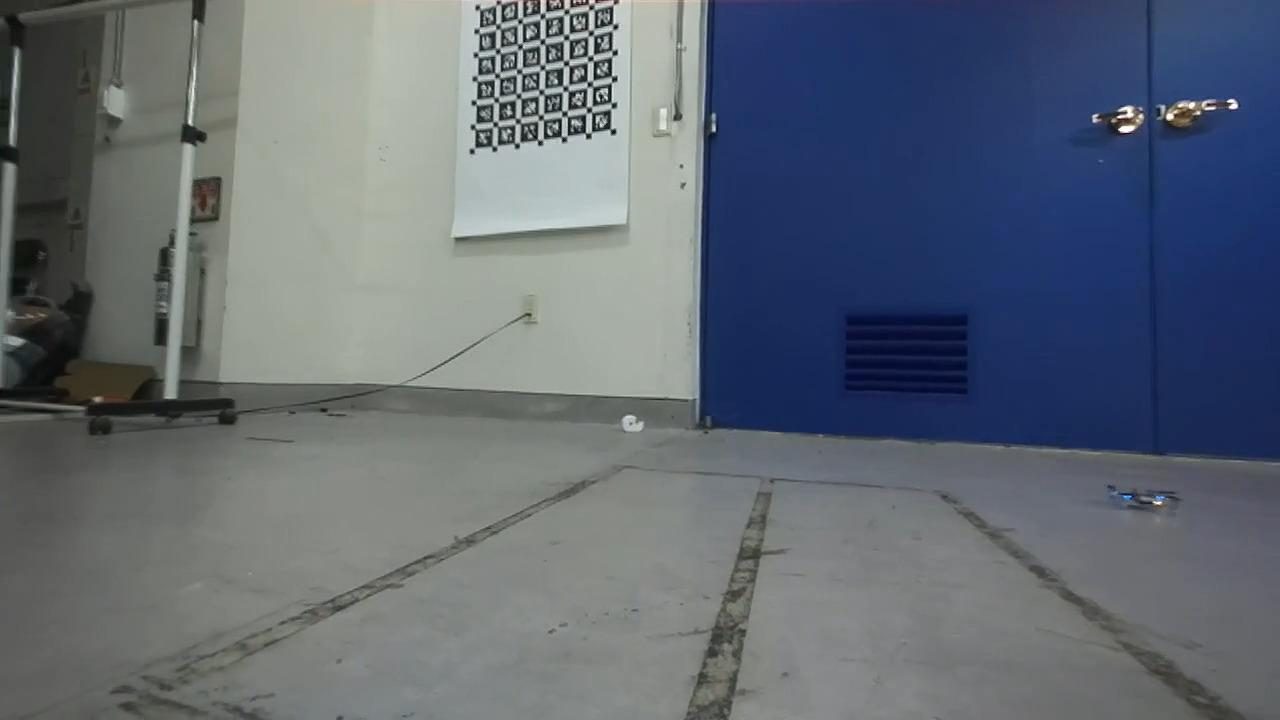crazyflie: (1104, 483, 1175, 517)
